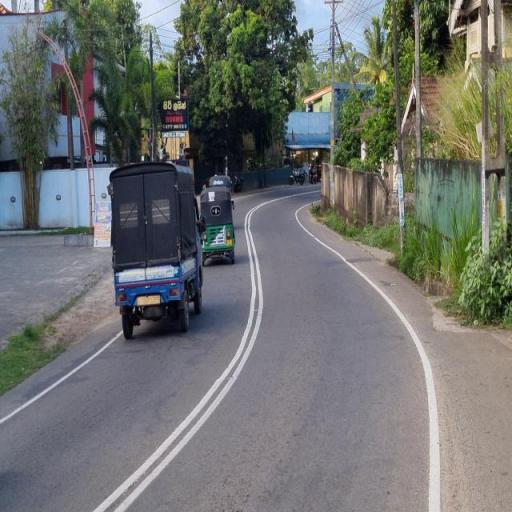double_white_line: (94, 199, 264, 512)
